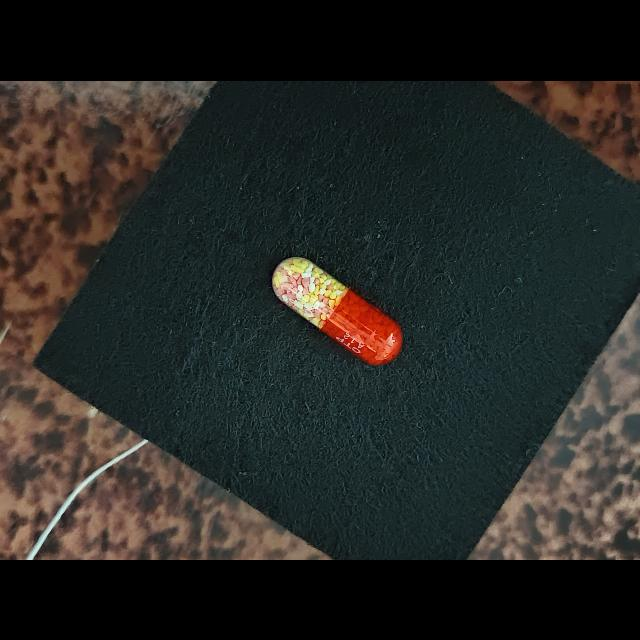Intact Capsule: (272, 256, 403, 365)
